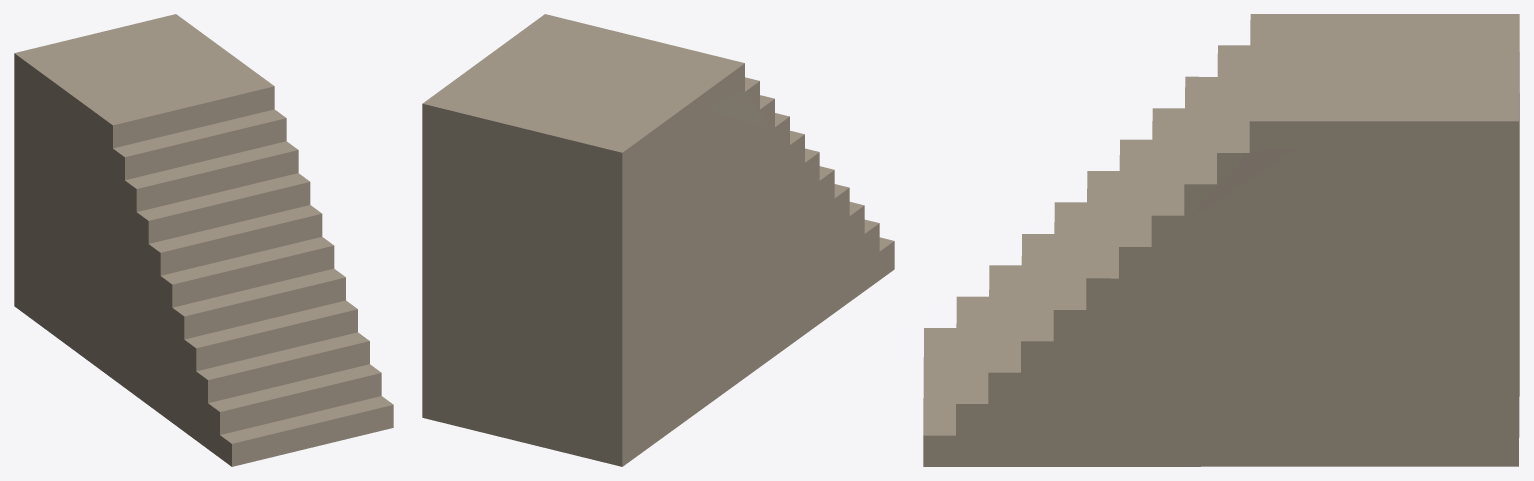
Rendered from SM_Stairs.FBX.
The picture shows the model from 3 angles, left to right: view 1: azimuth 30°, elevation 25°; view 2: azimuth 150°, elevation 25°; view 3: azimuth 270°, elevation 25°; orthographic projection. The views are drawn at different scales.
Parts seen in each view (by area): view 1: SM_Stairs; view 2: SM_Stairs; view 3: SM_Stairs.
Boxes of the visible parts, <box> form: SM_Stairs: <box>14,14,393,466</box>; SM_Stairs: <box>422,14,894,466</box>; SM_Stairs: <box>923,14,1519,466</box>.
Size of the model in its own units: 80.46 by 120 by 188.
